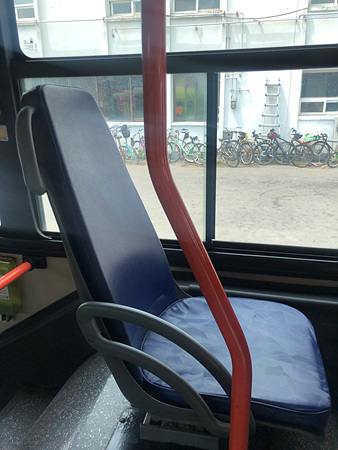seat: (19, 84, 326, 431)
